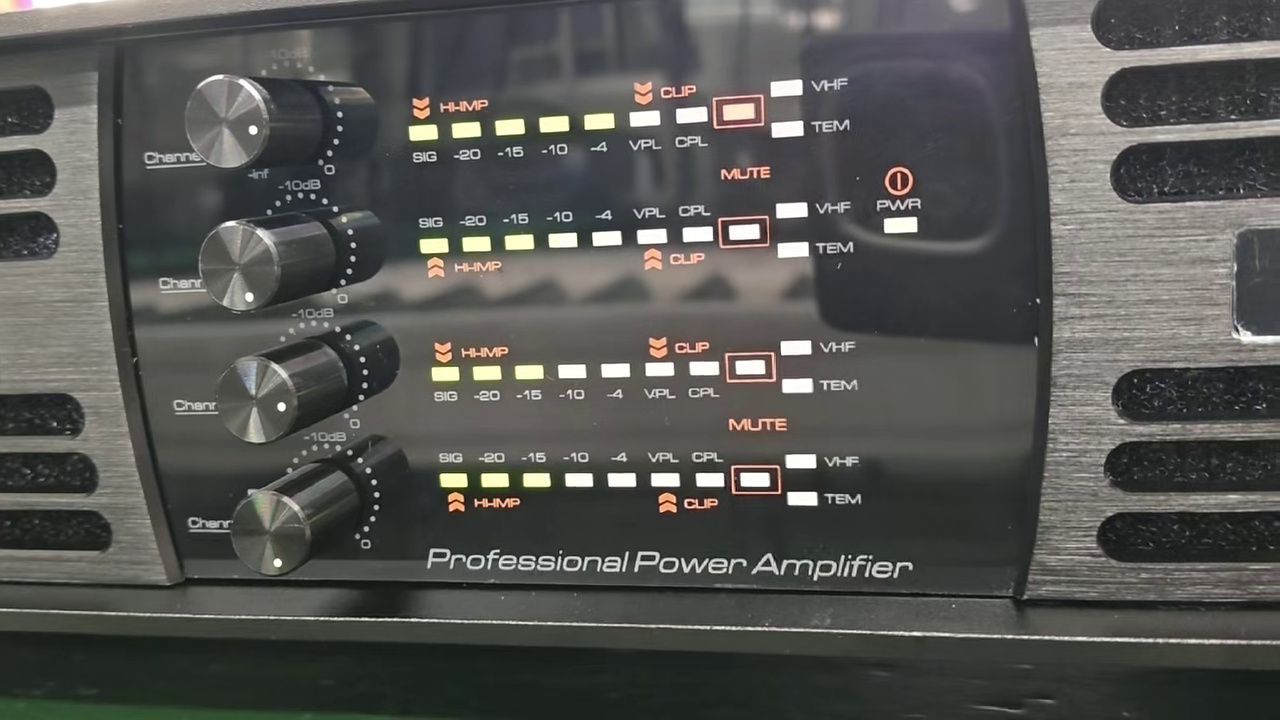FP_CPL: (670, 101, 712, 156), (683, 358, 725, 404), (676, 199, 715, 248), (687, 446, 729, 490)
FP_PWR: (867, 196, 931, 239)
FP_PWR_area: (869, 158, 930, 244)
FP_SIG_area: (404, 75, 851, 160), (414, 198, 854, 280), (434, 442, 869, 520), (425, 334, 858, 404)
FP_VPL: (625, 105, 663, 157), (629, 202, 667, 248), (645, 447, 684, 490), (640, 358, 677, 403)
